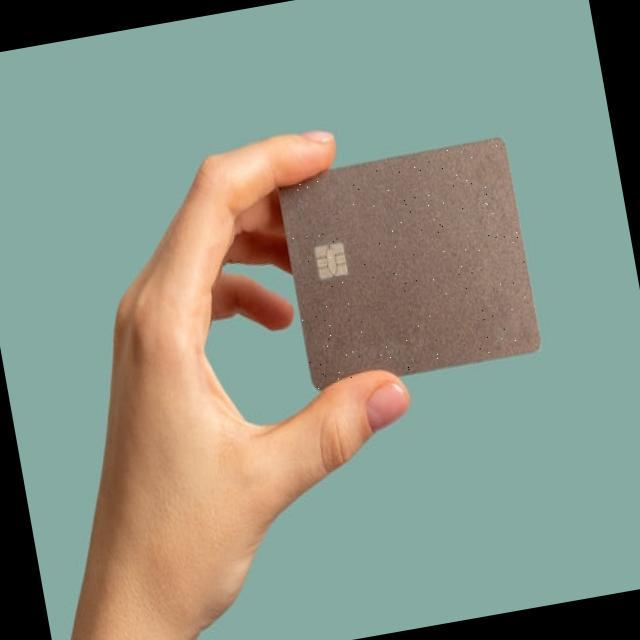payment_card: (275, 135, 541, 391)
